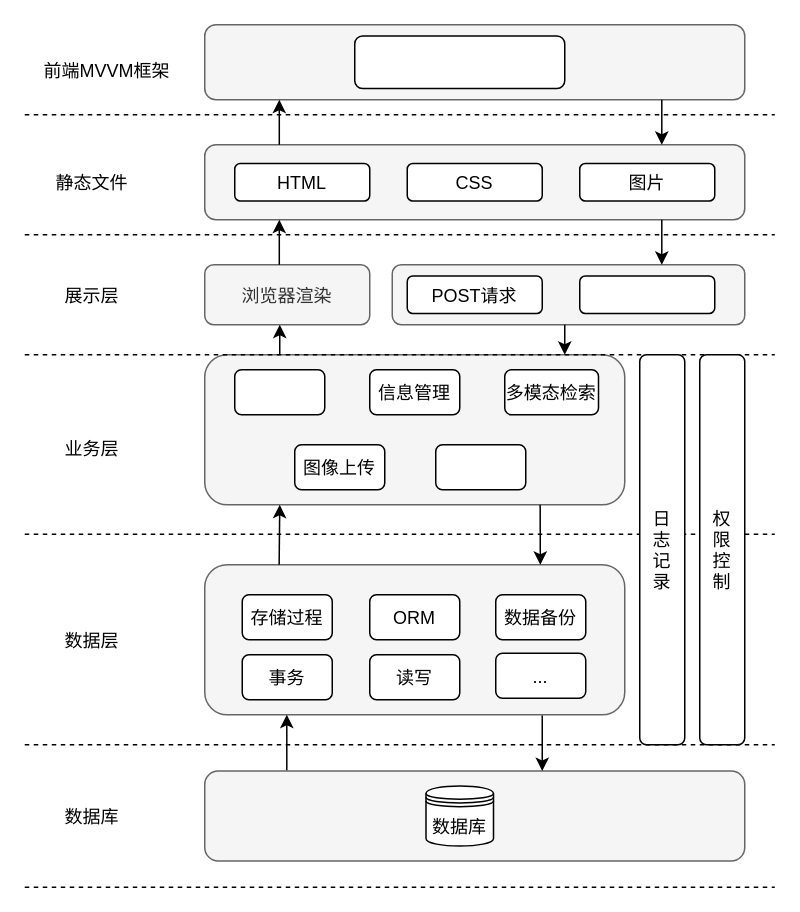
Image size: 800x912. Some labels were removed from this diagram. Each missing label, with the box of its shape:
GET等请求: (578, 274, 715, 314)
VUE: (353, 34, 565, 88)
数据管理: (434, 443, 526, 490)
登录注册: (233, 368, 325, 415)
